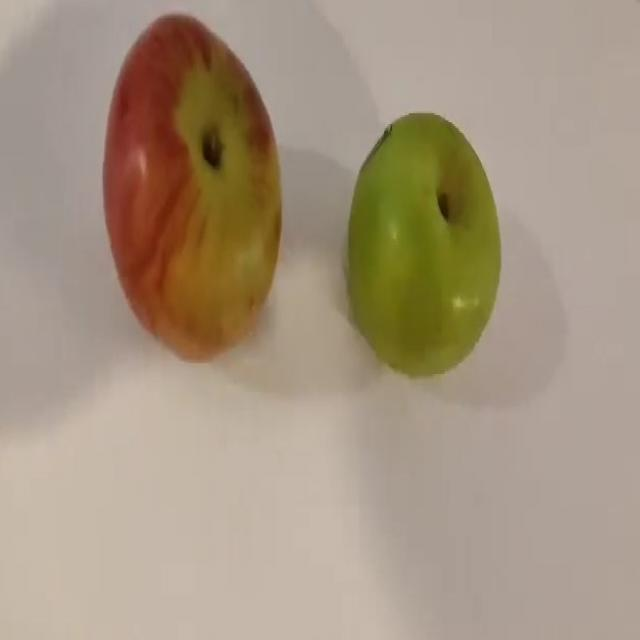Apple: (101, 12, 282, 362), (345, 110, 501, 377)
